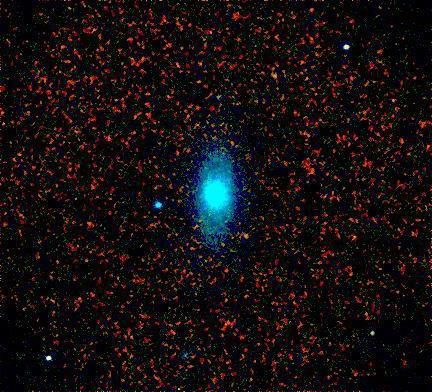star: (232, 221, 262, 251)
